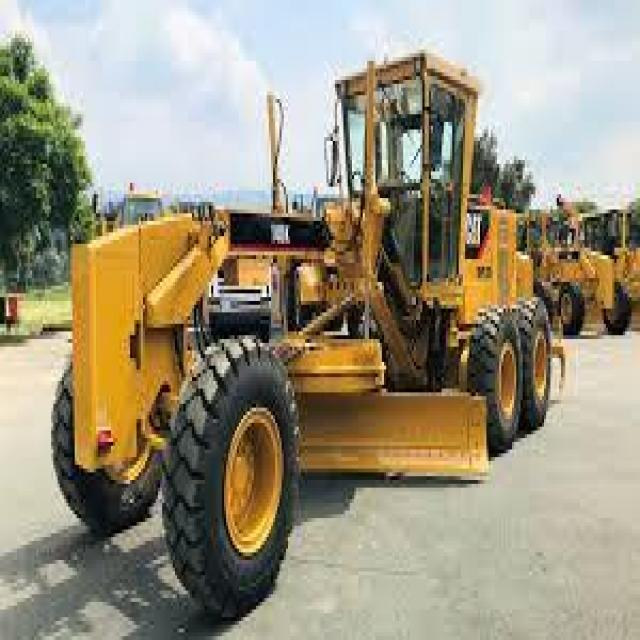Grader: (36, 42, 570, 598)
